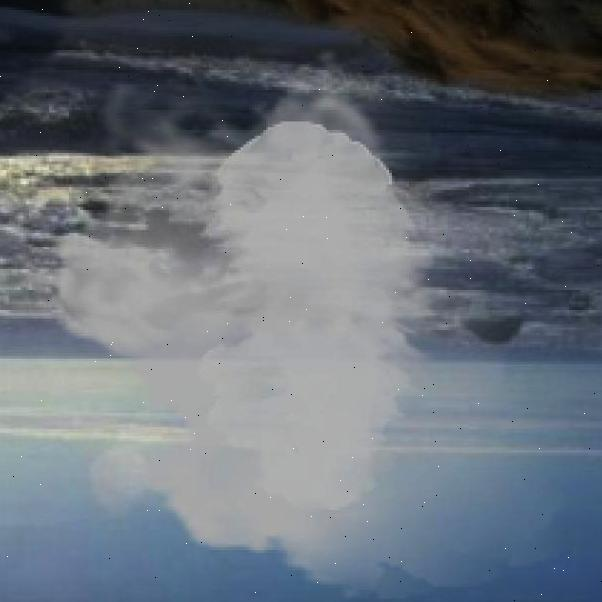smoke: (29, 47, 595, 599)
